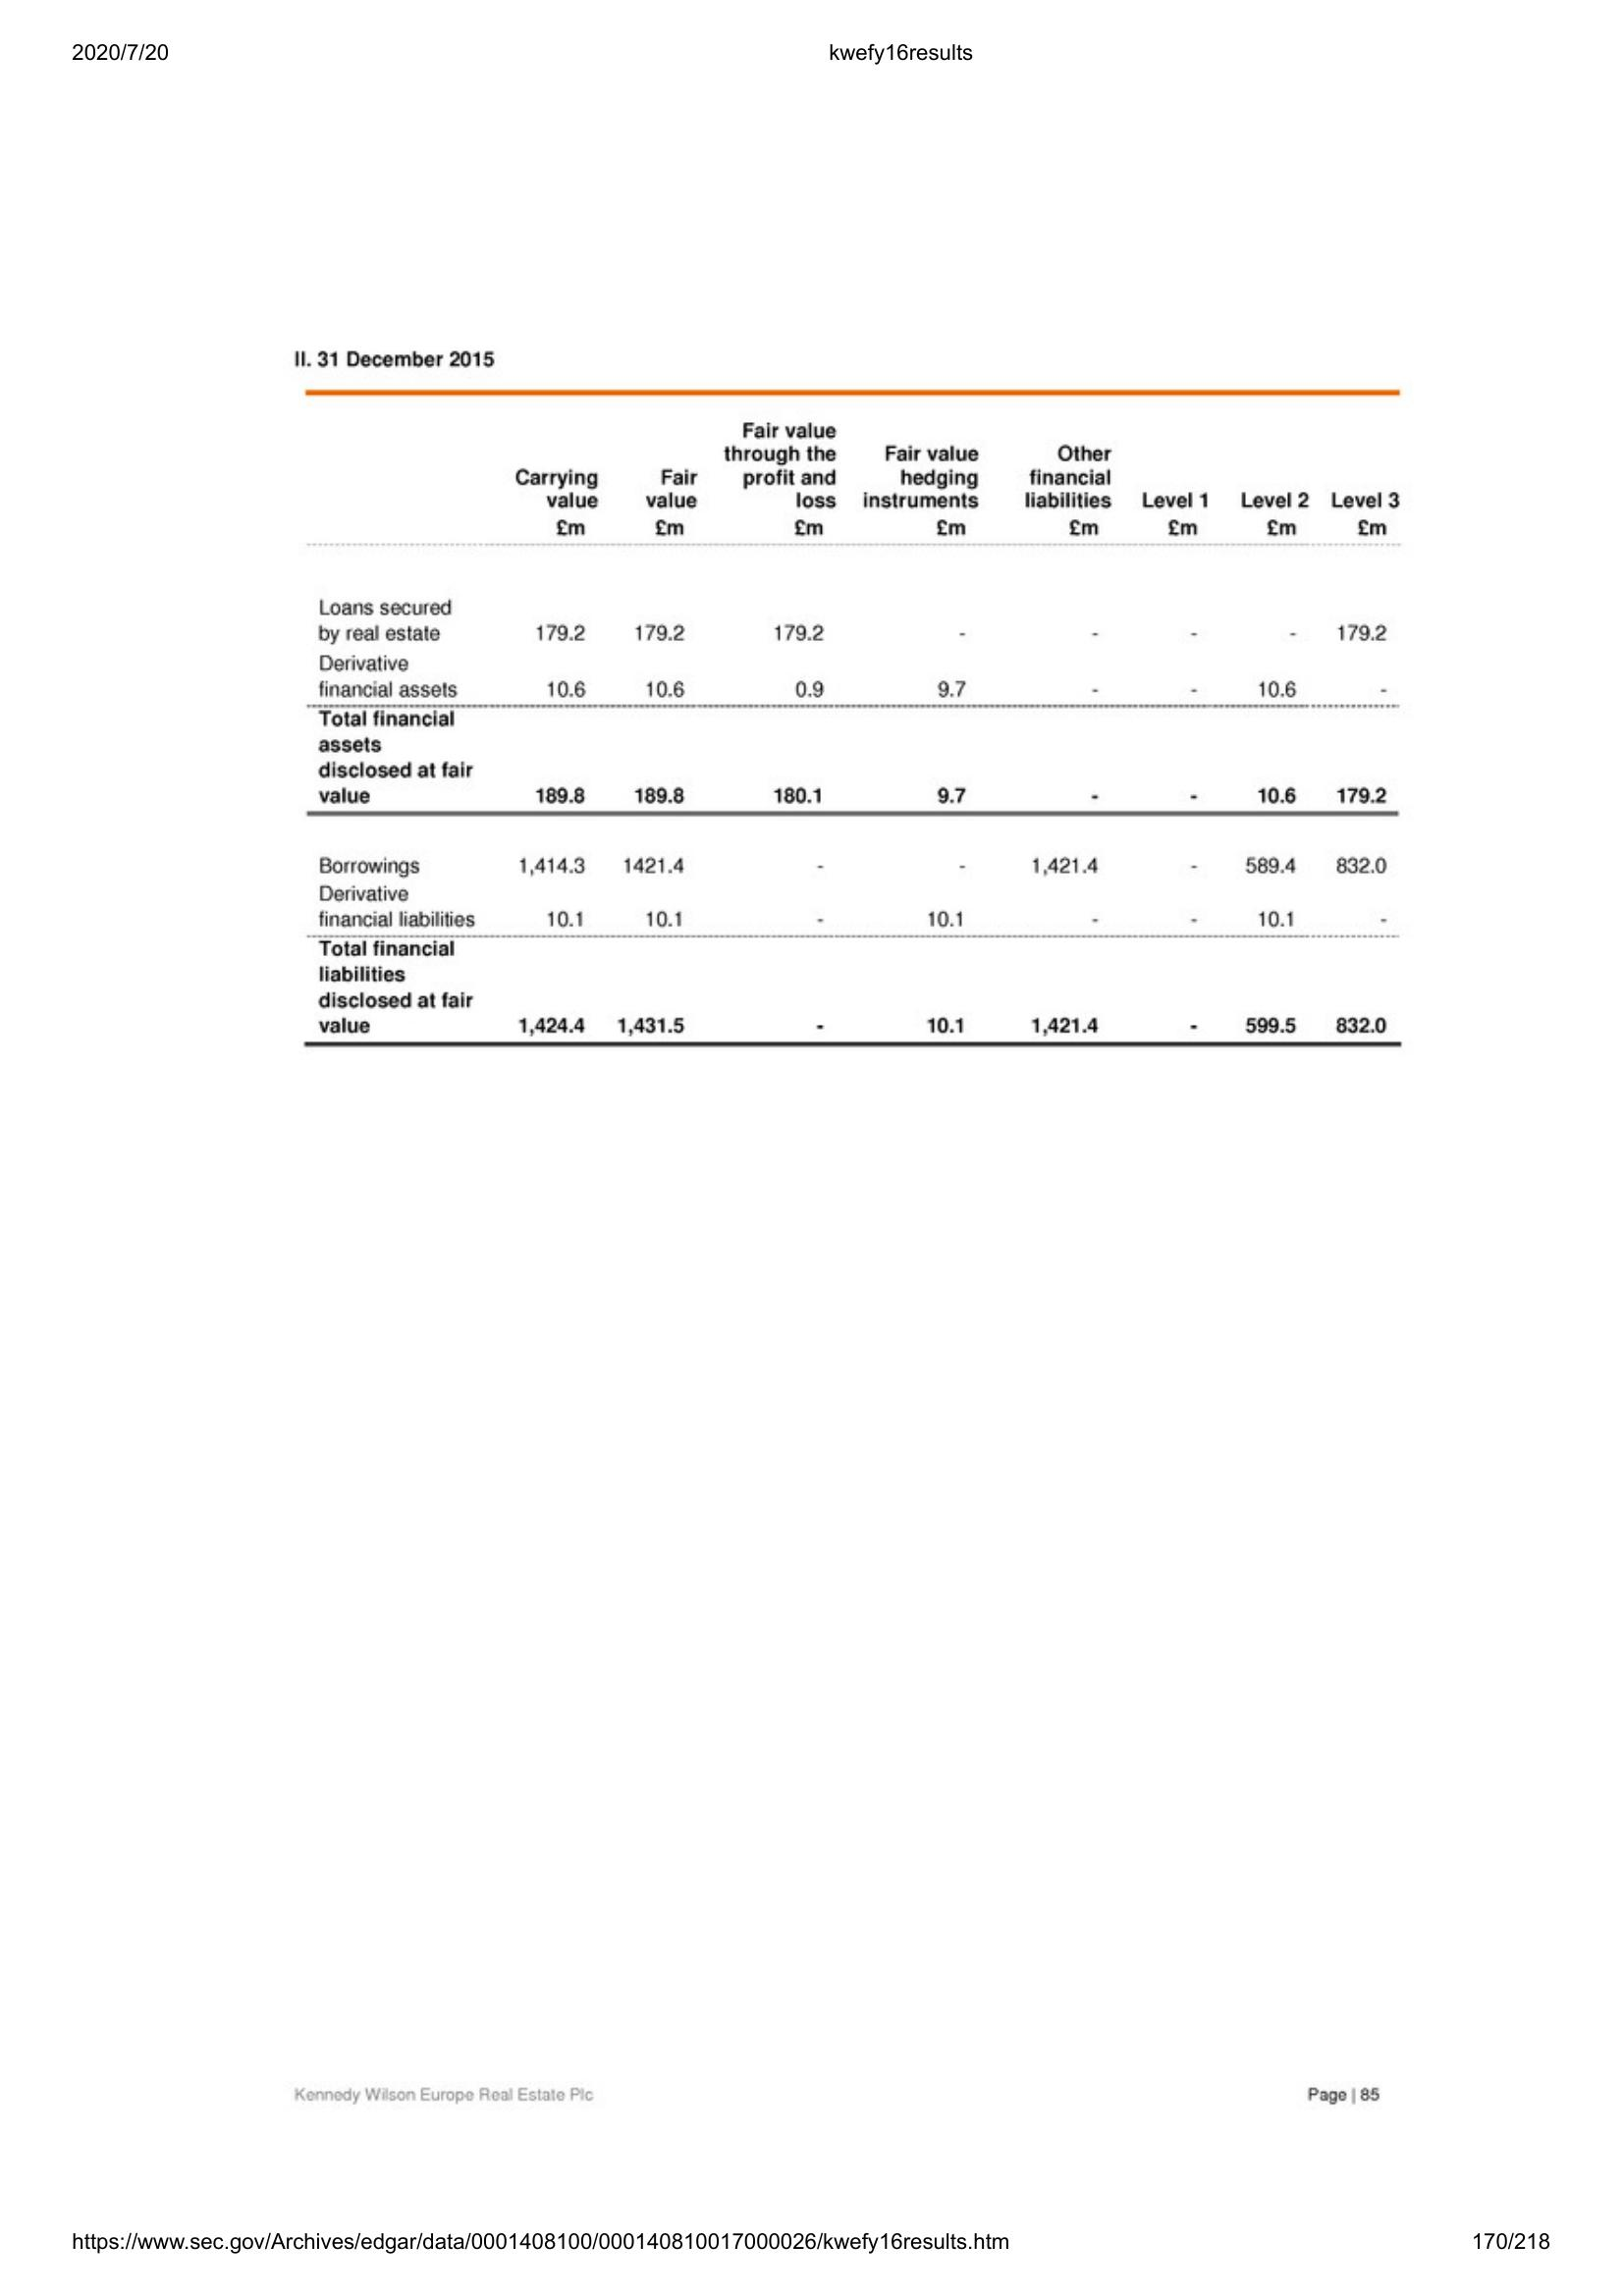table: (297, 386, 1416, 1055)
